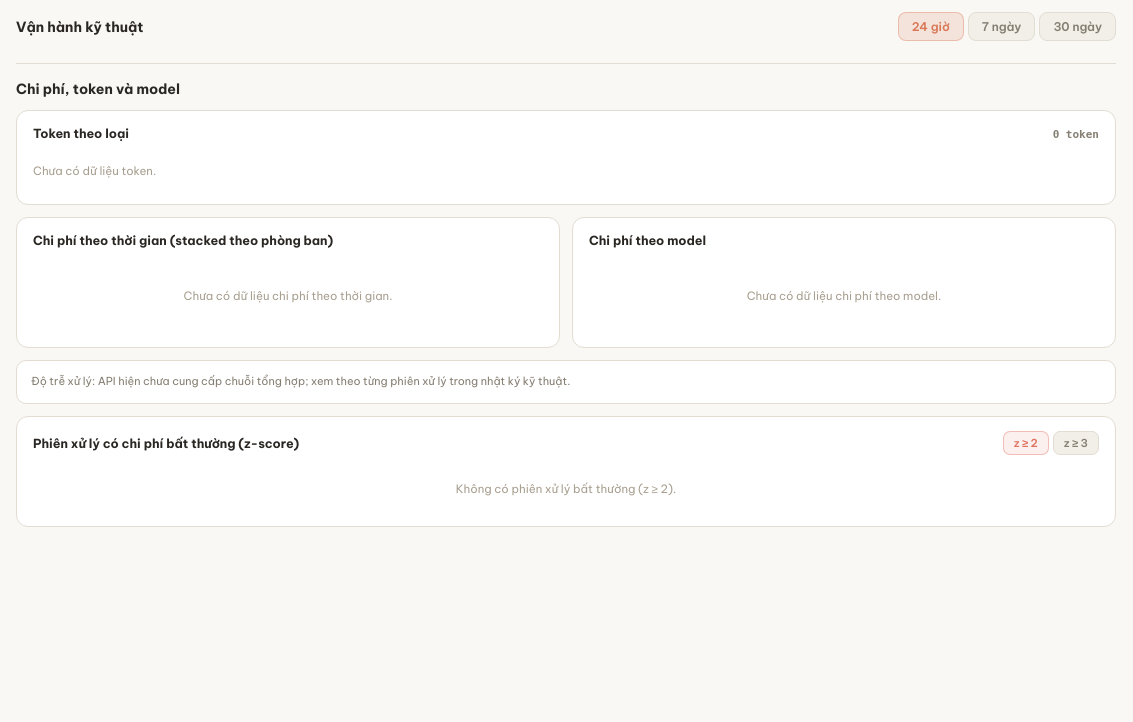
Test: TechnicalOperationsView › bỏ qua cost/trend 24h cũ nếu response 7d về trước
The width and height of the screenshot is (1133, 722).
Click the button with test id "technical-window-7d". click: (1002, 26)
box: x1=968 y1=12 x2=1035 y2=41
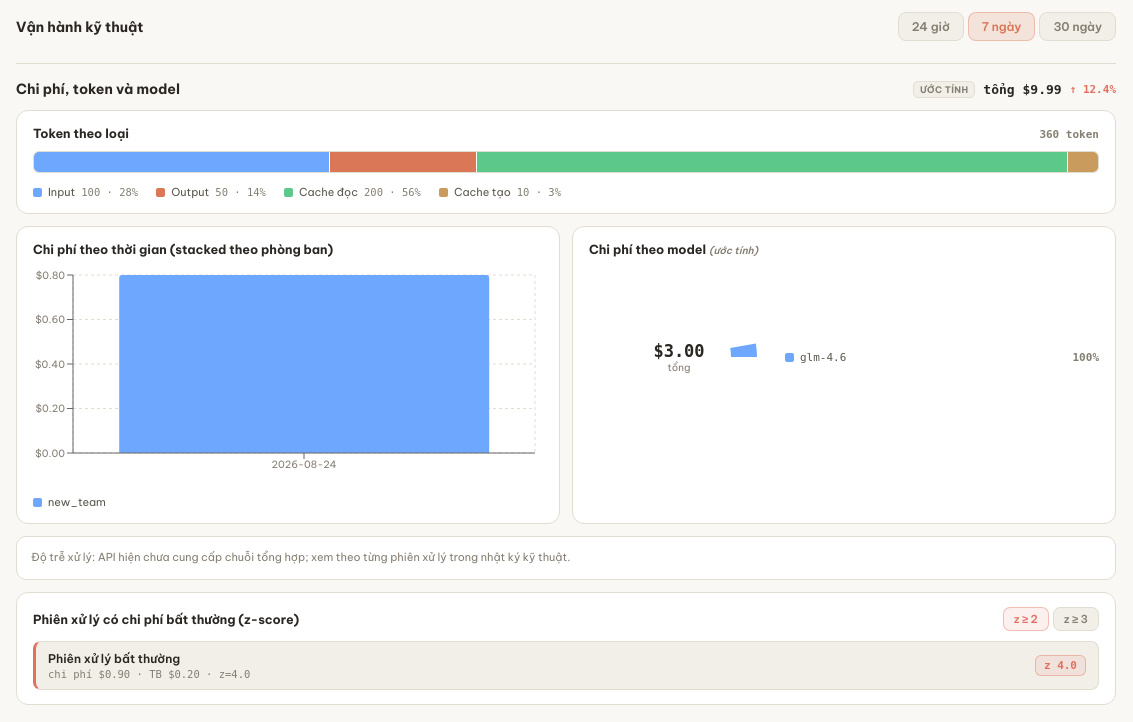
Result: the element with test id "cost-total" shows "$9.99" at x1=1022 y1=82 x2=1062 y2=96
Result: the text "new_team" is shown at x1=33 y1=495 x2=106 y2=509
